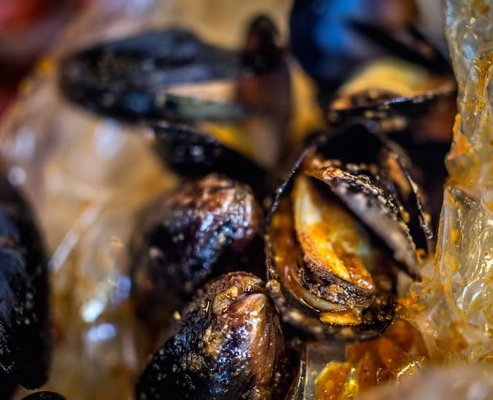salad: (134, 271, 299, 397), (130, 173, 265, 326)
